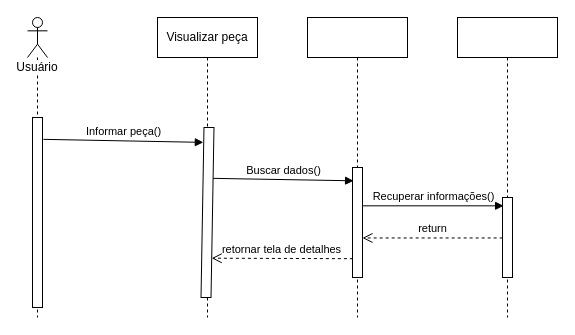
Some shapes in this 575 by 335 pixel diagram are drawn without their labels. The shapes that lost their labels are listed below. From the top down, each one's box as (x1, y1, x2, y2) in pixels, then its label:
(306, 16, 408, 318): Componente de negócio
(456, 16, 558, 318): Banco de dados
